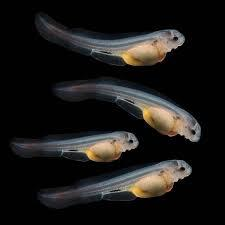fish: (34, 11, 200, 84), (47, 79, 211, 147), (28, 154, 201, 217), (3, 127, 145, 169), (144, 22, 191, 57), (173, 111, 207, 147), (155, 157, 197, 186), (107, 130, 145, 158)
